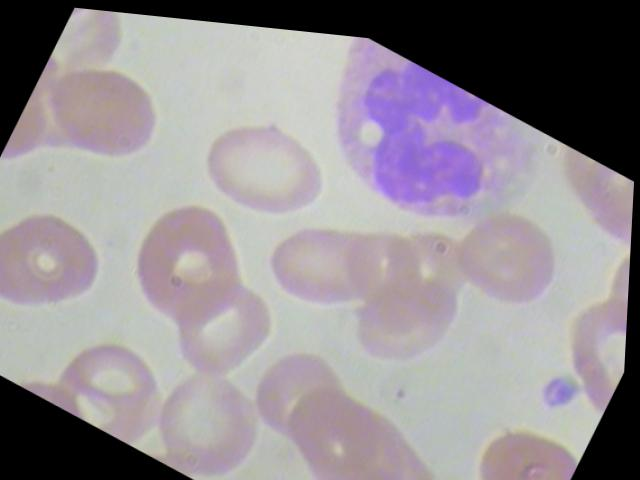Platelets: (530, 347, 598, 412)
Red Blood Cells: (105, 172, 278, 349), (176, 80, 345, 240), (248, 179, 399, 336), (28, 37, 182, 187), (133, 342, 286, 479), (0, 186, 127, 345), (441, 179, 577, 325), (343, 242, 471, 384), (274, 354, 410, 479), (453, 388, 591, 479)
White Blood Cells: (287, 24, 569, 257)
